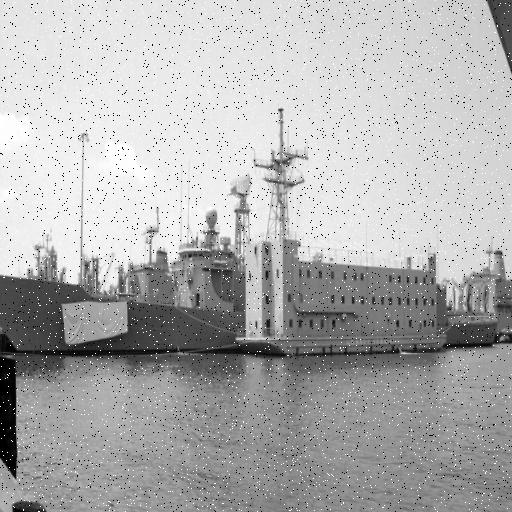Fragata: (1, 197, 232, 361)
